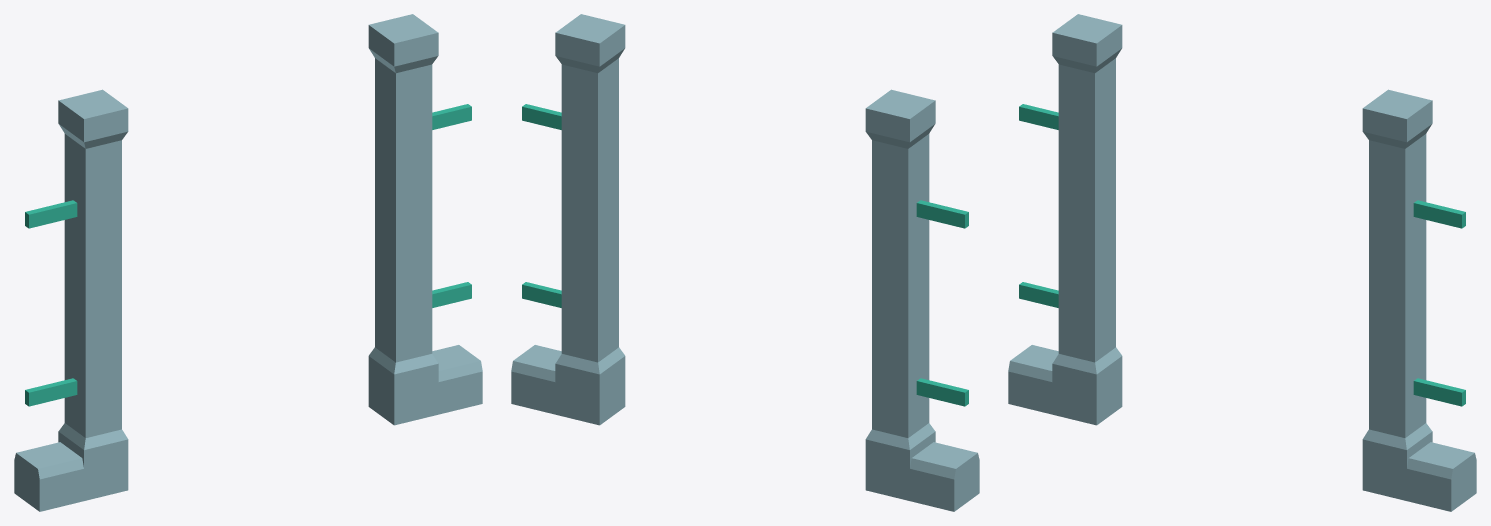
The model's file is ironFenceBorderGate.obj.
3 views of the same model, side by side, from view 1: azimuth 30°, elevation 25°; view 2: azimuth 150°, elevation 25°; view 3: azimuth 330°, elevation 25° (orthographic).
Parts seen in each view (by area): view 1: ironFenceBorderGate; view 2: ironFenceBorderGate; view 3: ironFenceBorderGate.
Boxes of the visible parts, x1,y1,x2,y2 form: ironFenceBorderGate: [14, 14, 482, 511]; ironFenceBorderGate: [511, 14, 979, 511]; ironFenceBorderGate: [1008, 14, 1476, 511].
Bounding box in the file's own units: 1 × 0.8239 × 0.1.
